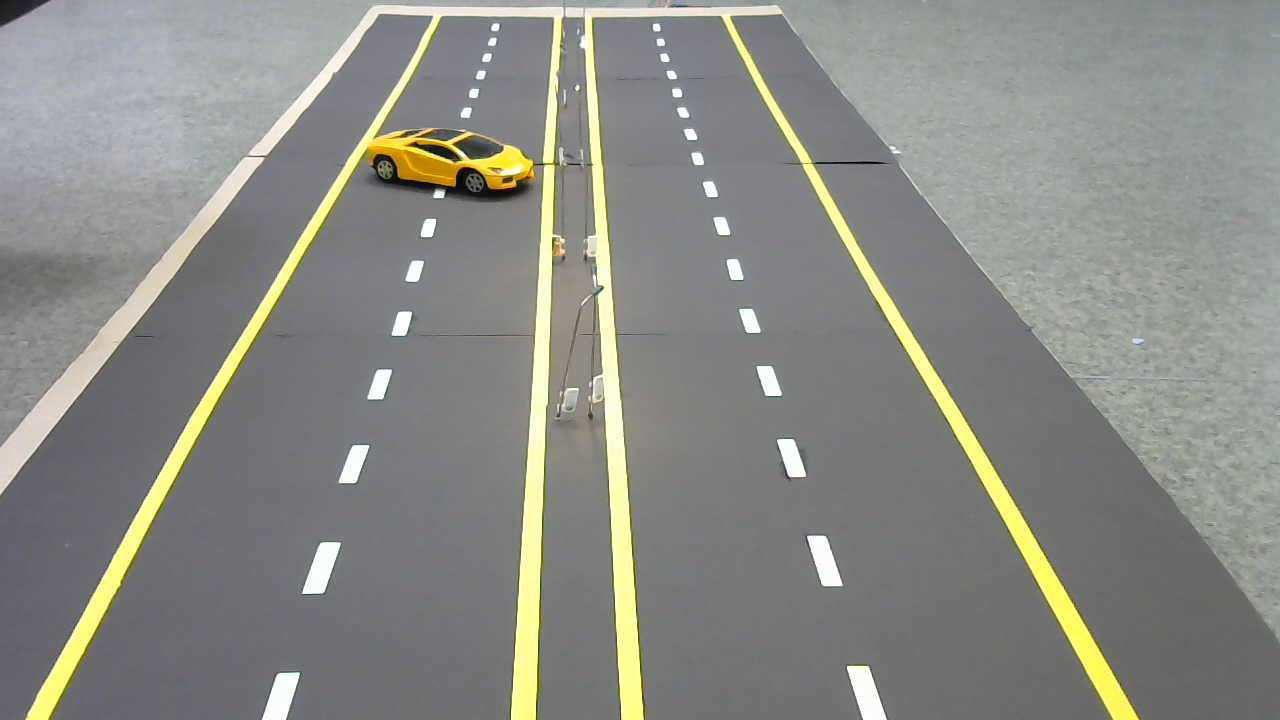overturn_car: (361, 121, 534, 208)
